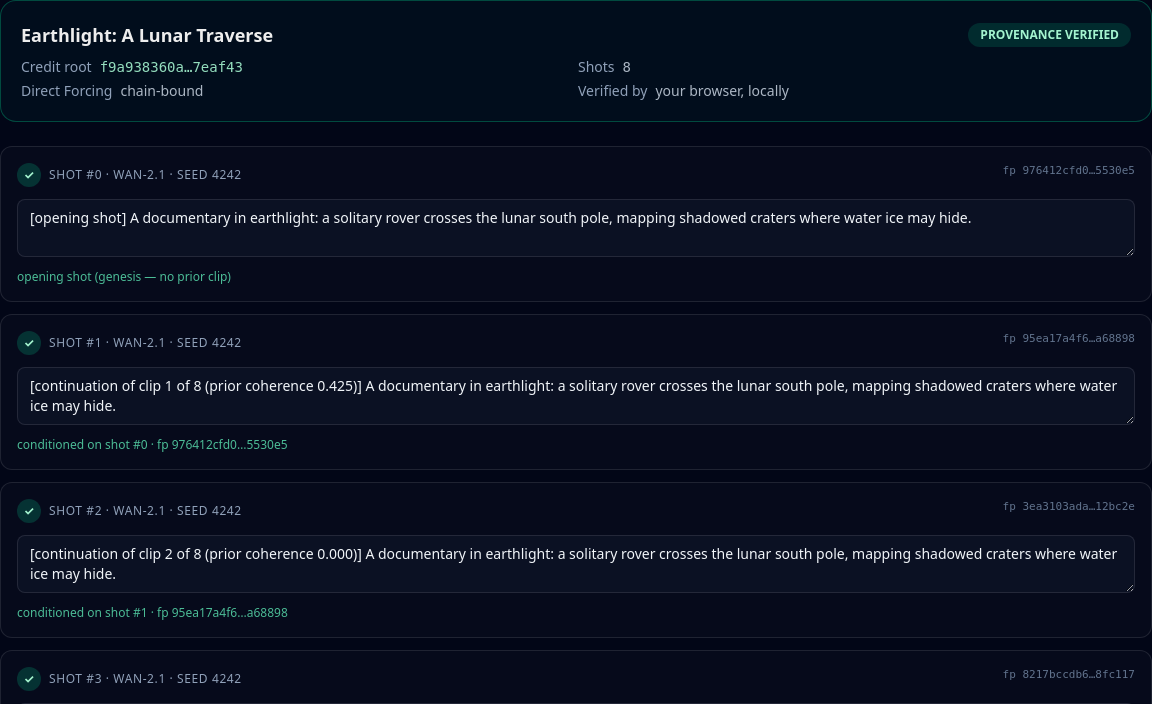
Test: FilmCredits › breaks the lineage when a shot prompt is edited
expect the text "PROVENANCE VERIFIED" is shown: met, box x1=968 y1=23 x2=1131 y2=47
Replace the text in the 3rd text box with "a forged shot the credit root never witnessed": (576,564) x1=17 y1=535 x2=1135 y2=593
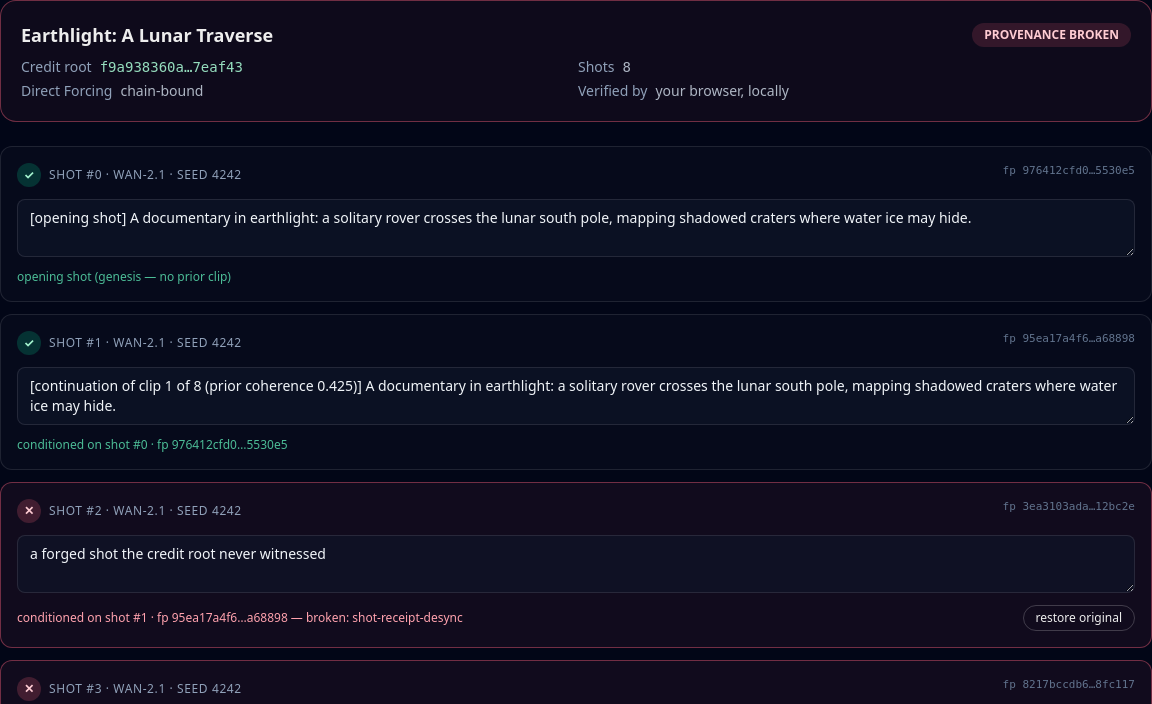
expect the text "PROVENANCE BROKEN" is shown: met, box x1=972 y1=23 x2=1131 y2=47
Click the button "restore original": (1079,618) x1=1022 y1=605 x2=1135 y2=631
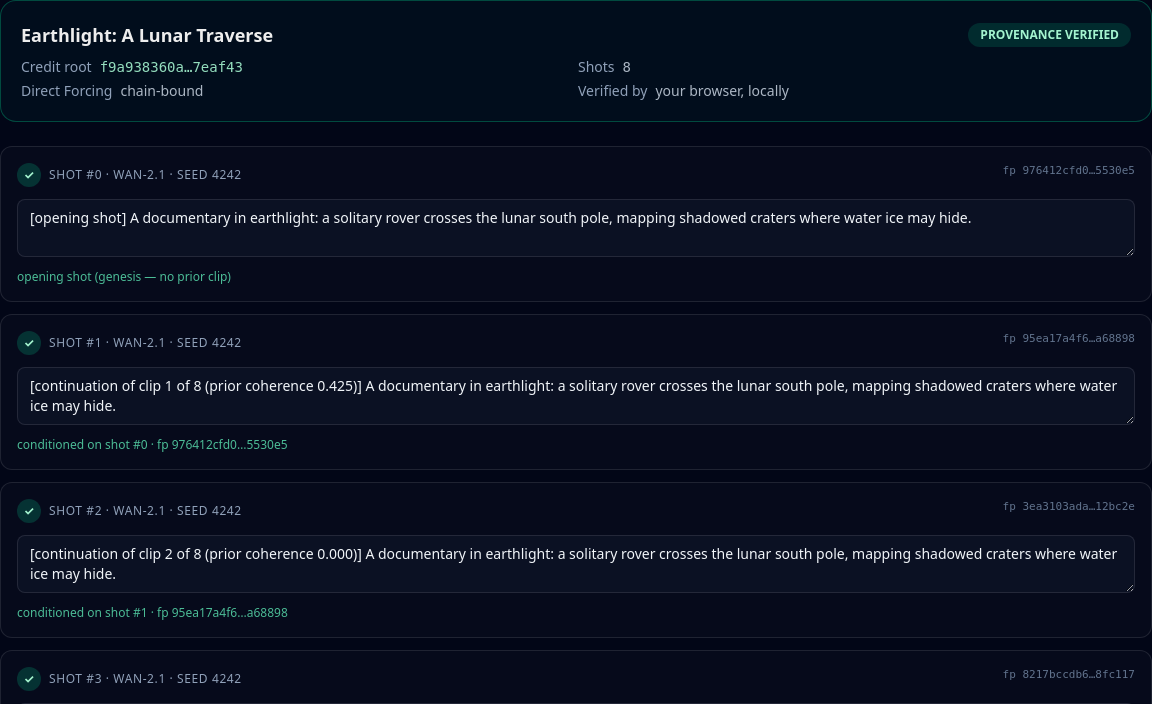
expect the text "PROVENANCE VERIFIED" is shown: met, box x1=968 y1=23 x2=1131 y2=47
